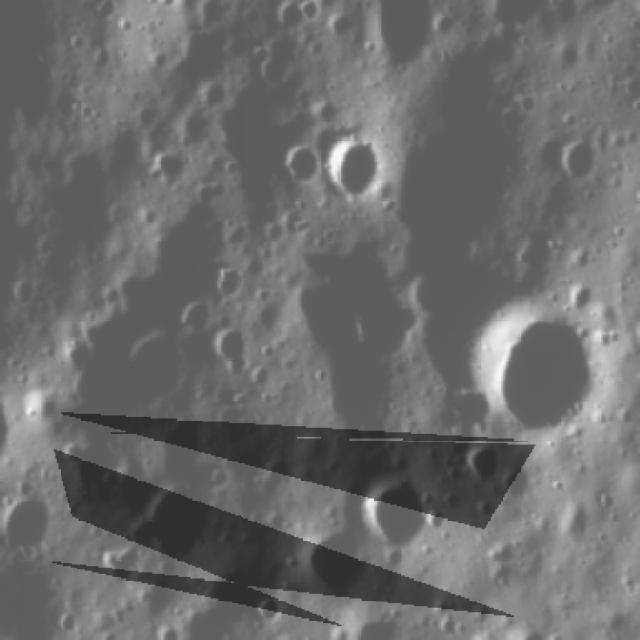crater: (459, 296, 608, 441), (138, 479, 228, 566), (353, 476, 444, 549), (121, 329, 196, 416), (299, 522, 373, 606), (318, 130, 388, 208), (0, 489, 51, 556), (203, 330, 260, 382), (21, 377, 70, 432), (550, 137, 605, 186), (452, 444, 502, 496), (274, 140, 324, 189), (490, 463, 535, 514), (210, 263, 255, 306), (151, 146, 191, 191), (181, 299, 219, 339), (327, 10, 364, 50), (254, 590, 291, 628)
